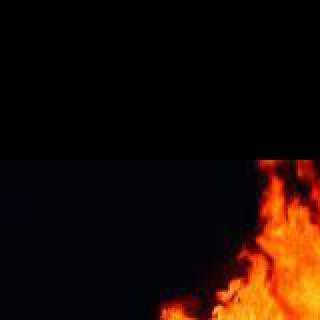fire: (50, 160, 320, 320)
